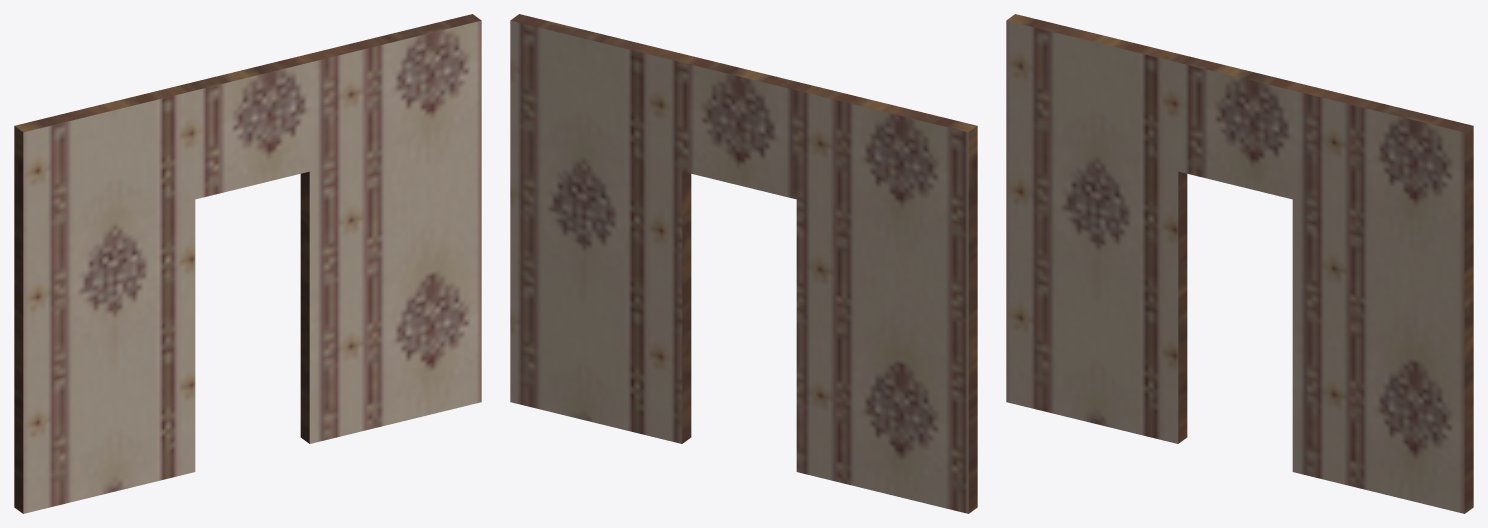
Rendered from 0_wall_4_woqr.dae.
The picture shows the model from 3 angles, left to right: view 1: azimuth 30°, elevation 25°; view 2: azimuth 150°, elevation 25°; view 3: azimuth 330°, elevation 25°; orthographic projection.
Parts seen in each view (by area): view 1: Plane.009; view 2: Plane.009; view 3: Plane.009.
Part boxes in pixels (x1,y1,x2,y2): Plane.009: (14,14,481,513); Plane.009: (510,14,977,513); Plane.009: (1006,14,1473,513).
Size of the model in its own units: 4.4 by 0.15 by 3.5.
1 material, 1 textured.
